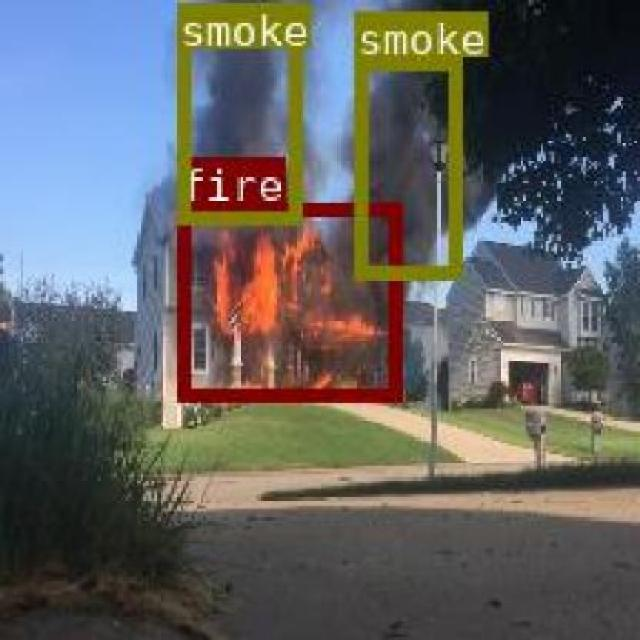Fire: (175, 200, 400, 400)
Smoke: (175, 2, 298, 222), (352, 56, 459, 276)
